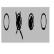correct: (28, 12, 34, 31)
not correct: (15, 9, 24, 42)
